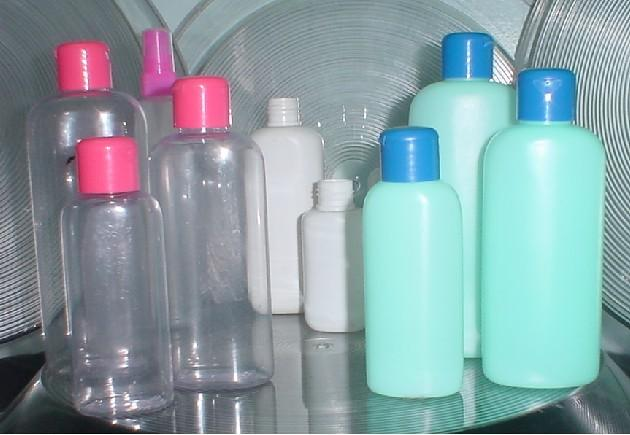bottle: (25, 41, 152, 411), (480, 68, 607, 390), (149, 76, 276, 393), (408, 32, 518, 360), (59, 136, 175, 419), (362, 126, 465, 399), (250, 97, 325, 315), (298, 179, 365, 334), (138, 28, 178, 154)
